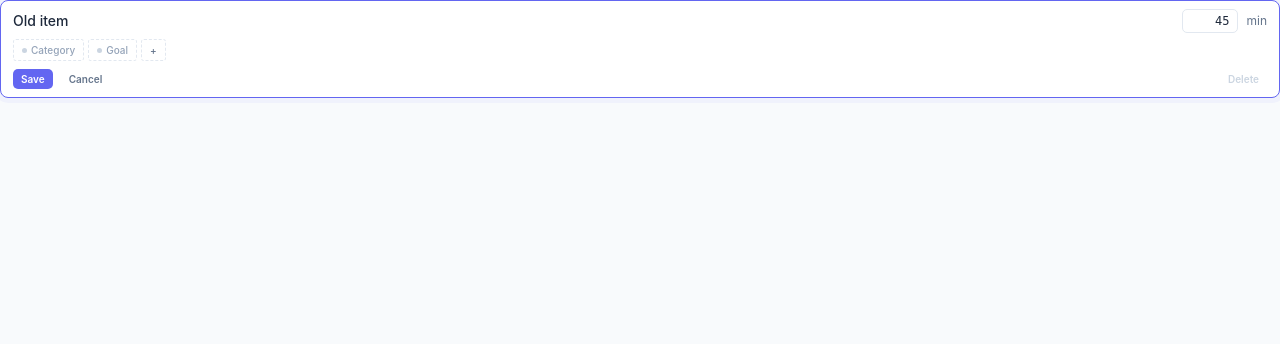
Test: EntryRowEdit › Enter while the popover is open does not save (popover owns Enter)
The width and height of the screenshot is (1280, 344).
Click the element with test id "missing-required". click: (49, 50)
box: x1=13 y1=39 x2=84 y2=61
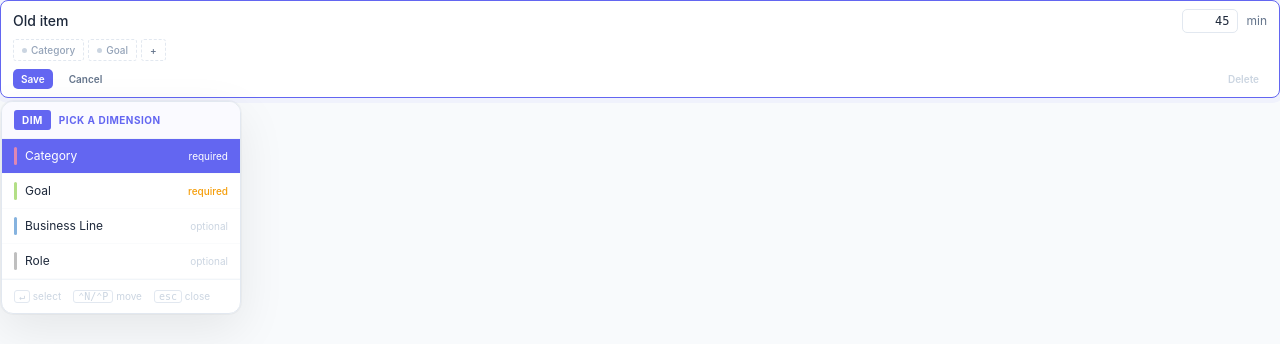
Expected: the element that starts with "DIM" is shown, x1=1 y1=101 x2=241 y2=314
Press Enter in the 1st field, box x1=13 y1=9 x2=1174 y2=33
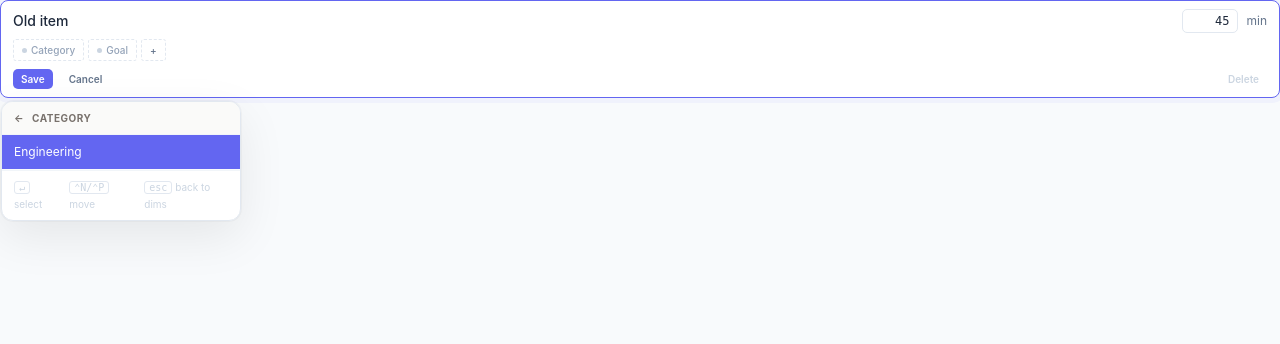
Expected: the button with test id "back-btn" is shown, x1=14 y1=113 x2=24 y2=123
